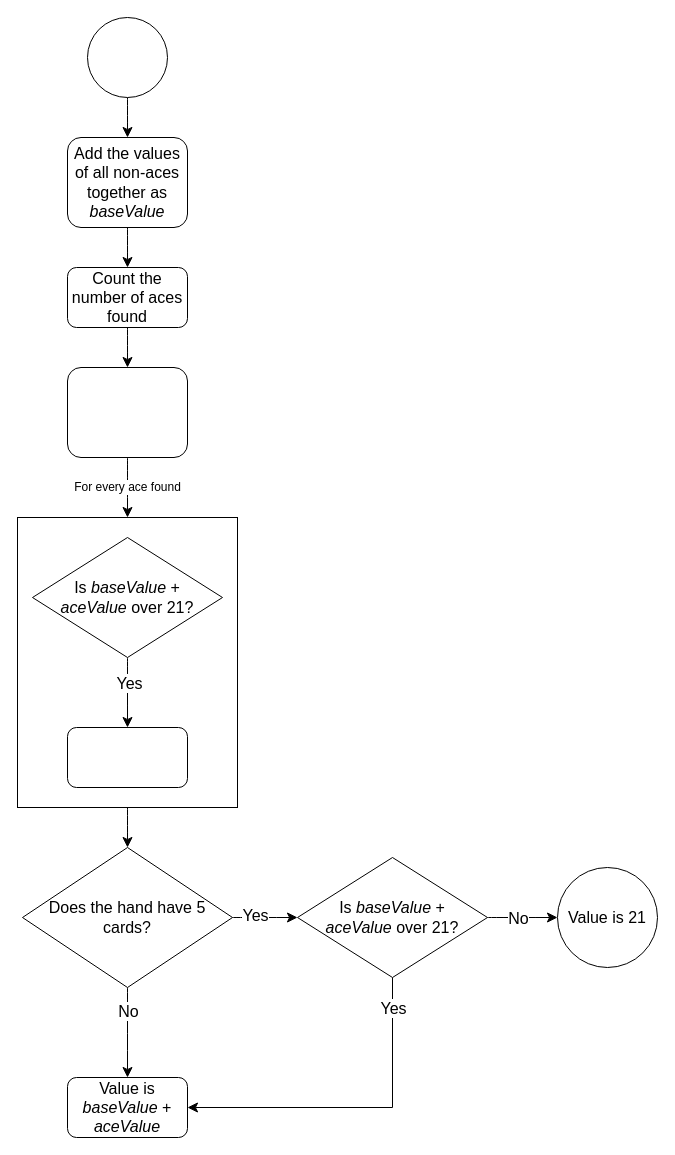
This 675x1155 diagram has some shape labels left out. The centre of each missing label's shape, as x and y in pixels:
"Calculate the max value of all aces as aceValue" belongs at point 127,412.
"Decrease aceValue by 10" belongs at point 127,757.
"Start" belongs at point 127,57.
